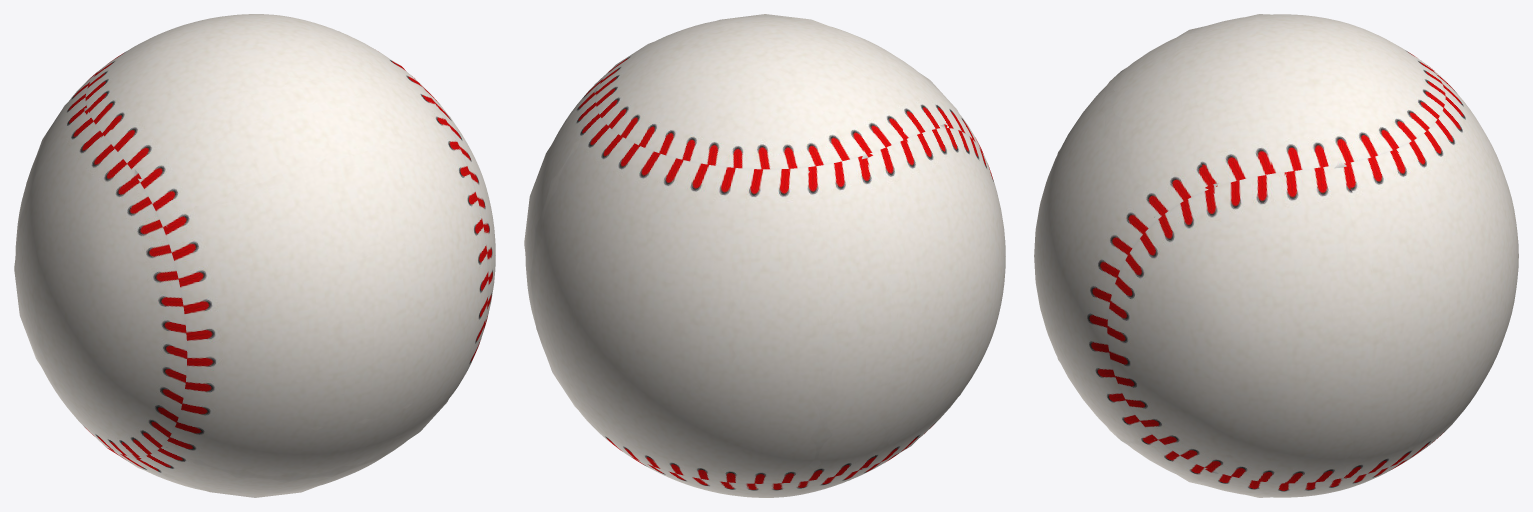
Rendered from baseball.glb.
3 views of the same model, side by side, from view 1: azimuth 30°, elevation 25°; view 2: azimuth 150°, elevation 25°; view 3: azimuth 270°, elevation 25° (orthographic).
Visible parts, largest first — view 1: BaseballCoverTopo.3584, BaseballCoverTopo.224; view 2: BaseballCoverTopo.3584, BaseballCoverTopo.224; view 3: BaseballCoverTopo.3584, BaseballCoverTopo.224.
Part boxes in pixels (x1,y1,x2,y2): BaseballCoverTopo.3584: (15,14,495,494); BaseballCoverTopo.224: (14,31,461,497); BaseballCoverTopo.3584: (525,16,1005,497); BaseballCoverTopo.224: (524,14,974,480); BaseballCoverTopo.3584: (1034,14,1518,497); BaseballCoverTopo.224: (1052,14,1500,497).
Size of the model in its own units: 0.075 by 0.075 by 0.075.
Materials: 2 (2 with a texture image).
